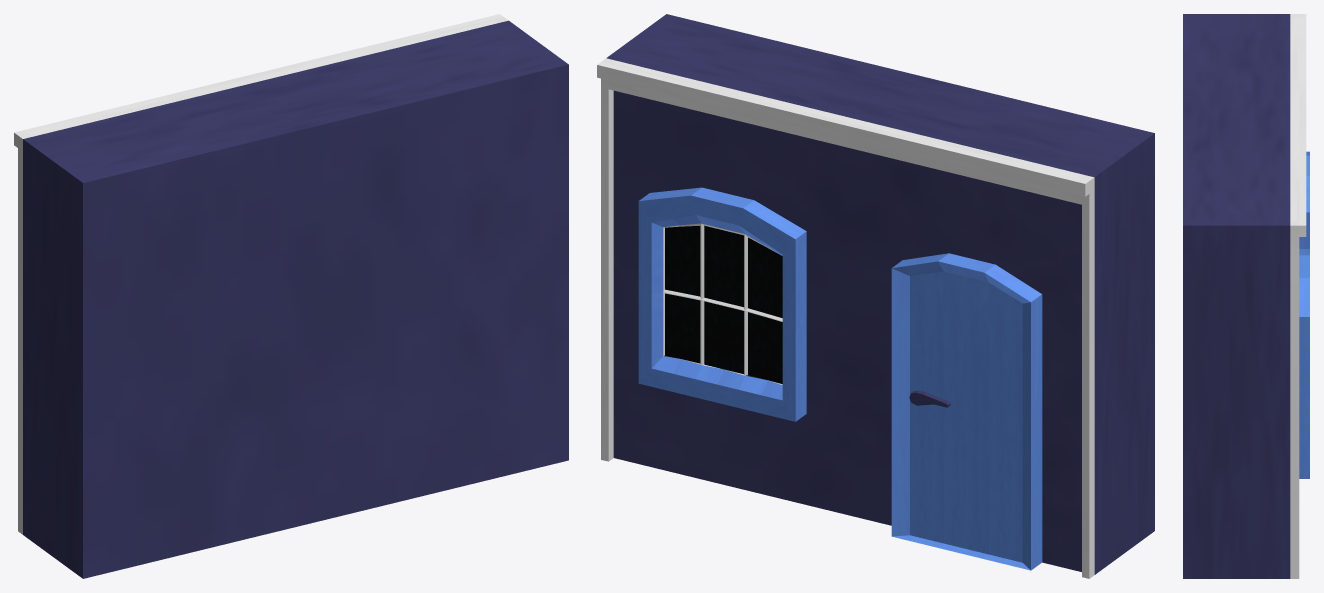
File: casaflo2azul.gltf
3 renders of one model, left to right at view 1: azimuth 30°, elevation 25°; view 2: azimuth 150°, elevation 25°; view 3: azimuth 270°, elevation 25°, orthographic. The views are drawn at different scales.
Parts seen in each view (by area): view 1: cuboid; view 2: cuboid (×3); view 3: cuboid (×3).
Boxes of the visible parts, left/top/right/bottom form: cuboid: left=14, top=14, right=568, bottom=578; cuboid (×3): left=597, top=14, right=1154, bottom=578; cuboid (×3): left=1183, top=14, right=1309, bottom=578.
Size of the model in its own units: 1.75 by 1.36 by 0.4438.
Materials: 1 (1 with a texture image).
